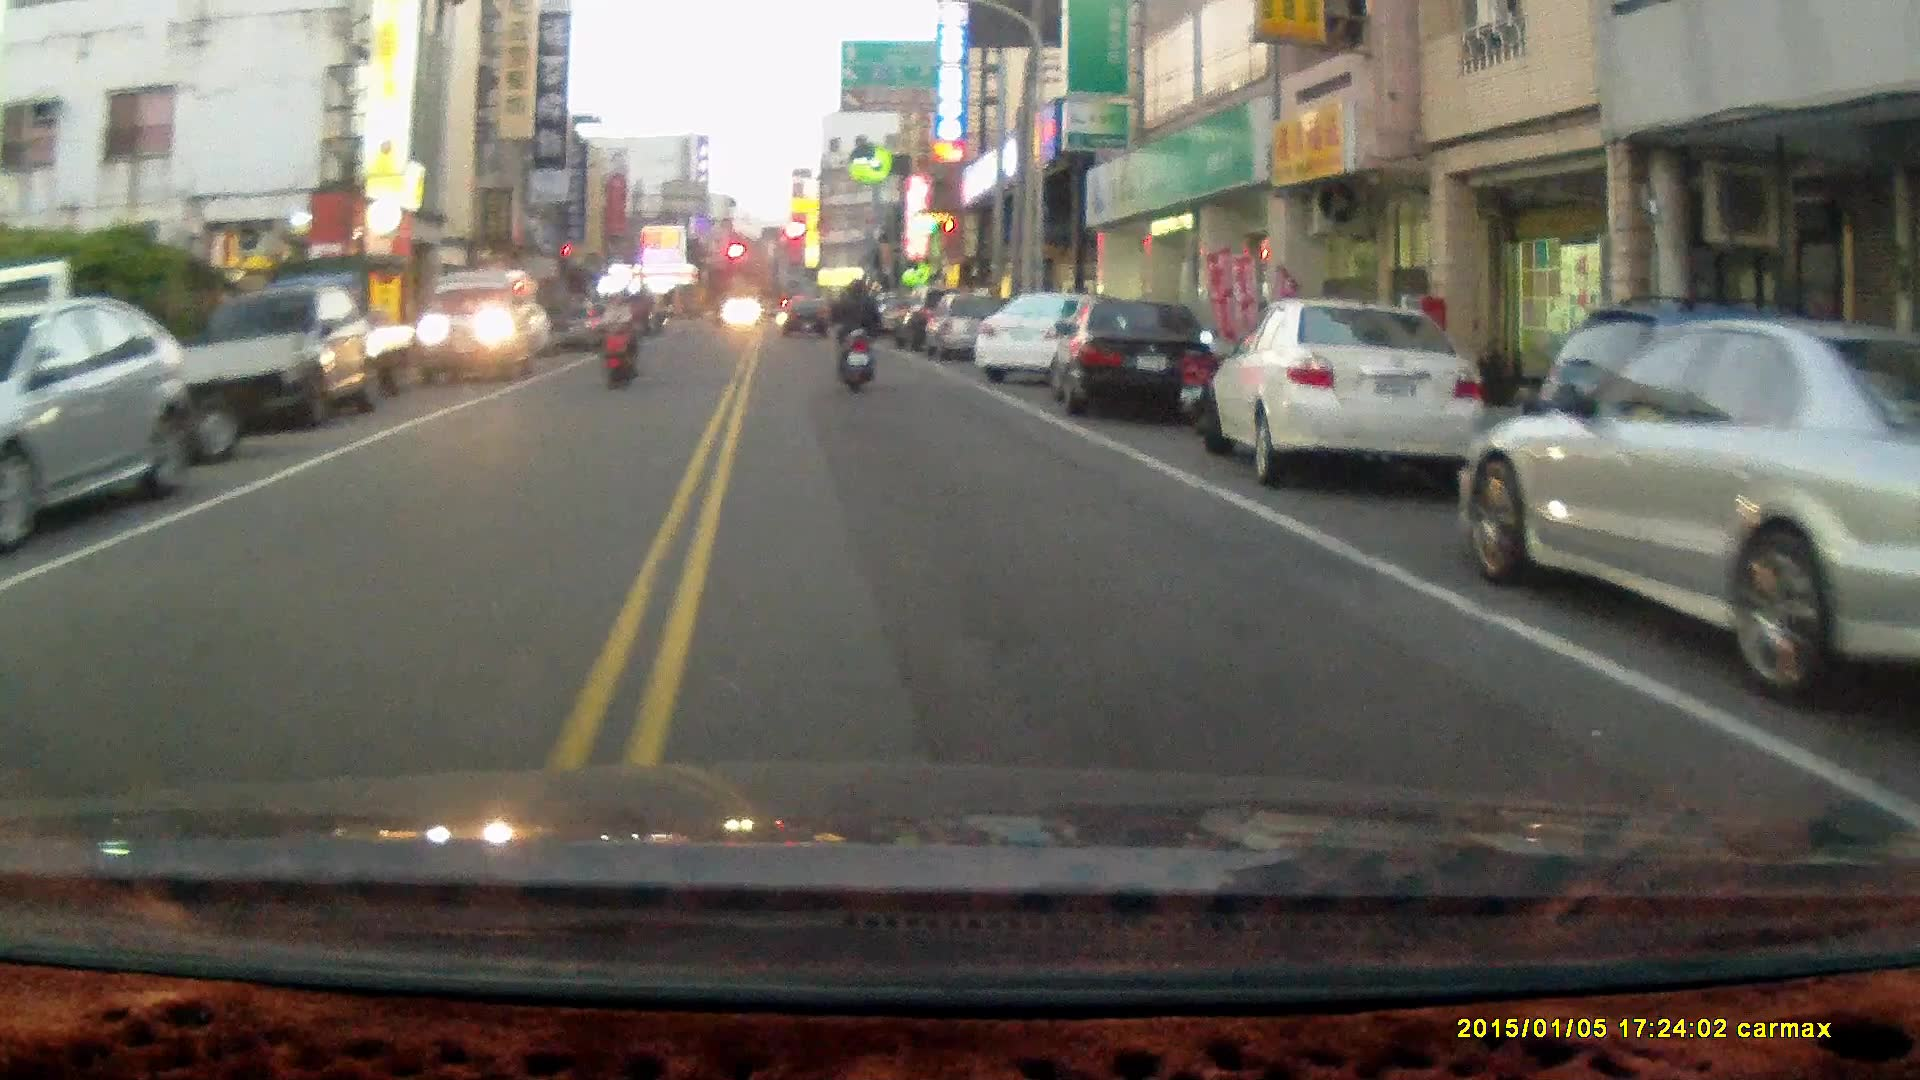rider: (832, 280, 878, 394), (602, 287, 644, 396)
vehicle: (1465, 316, 1920, 703), (1210, 301, 1495, 490), (1, 294, 190, 557), (195, 284, 376, 431), (1047, 300, 1217, 424), (973, 290, 1141, 387), (421, 267, 546, 387), (920, 294, 1024, 367)
